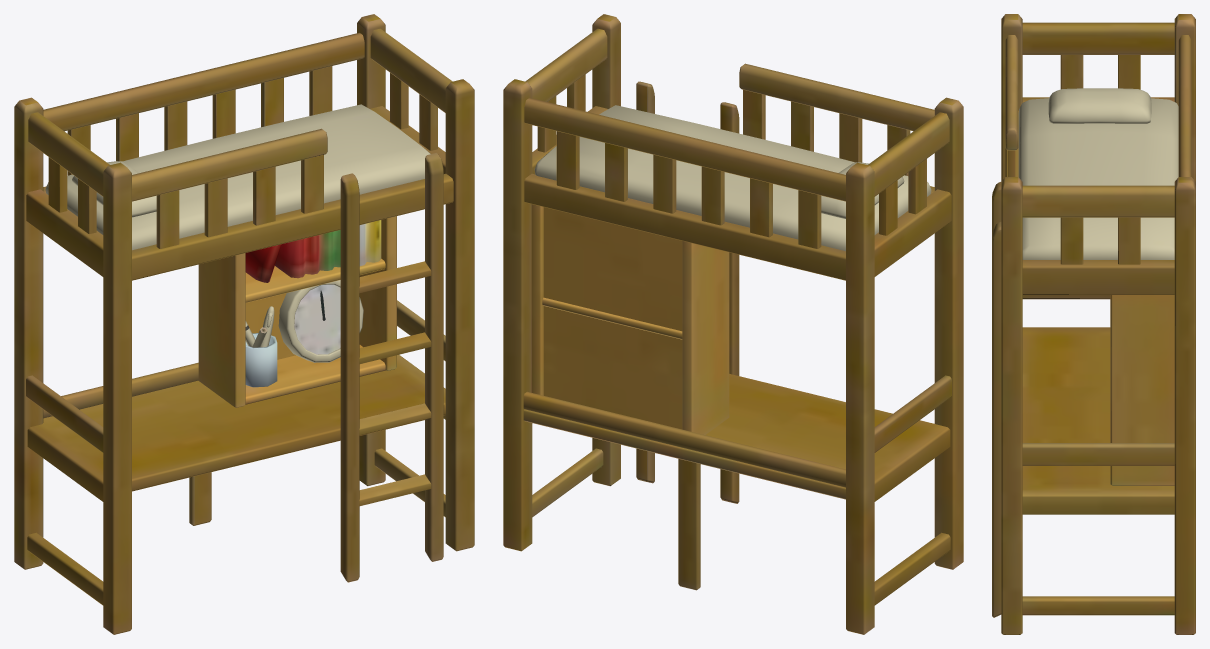
3 renders of one model, left to right at view 1: azimuth 30°, elevation 25°; view 2: azimuth 150°, elevation 25°; view 3: azimuth 270°, elevation 25°, orthographic. The views are drawn at different scales.
Size of the model in its own units: 19.95 by 24.35 by 9.97.
Materials: 2 (2 with a texture image).
